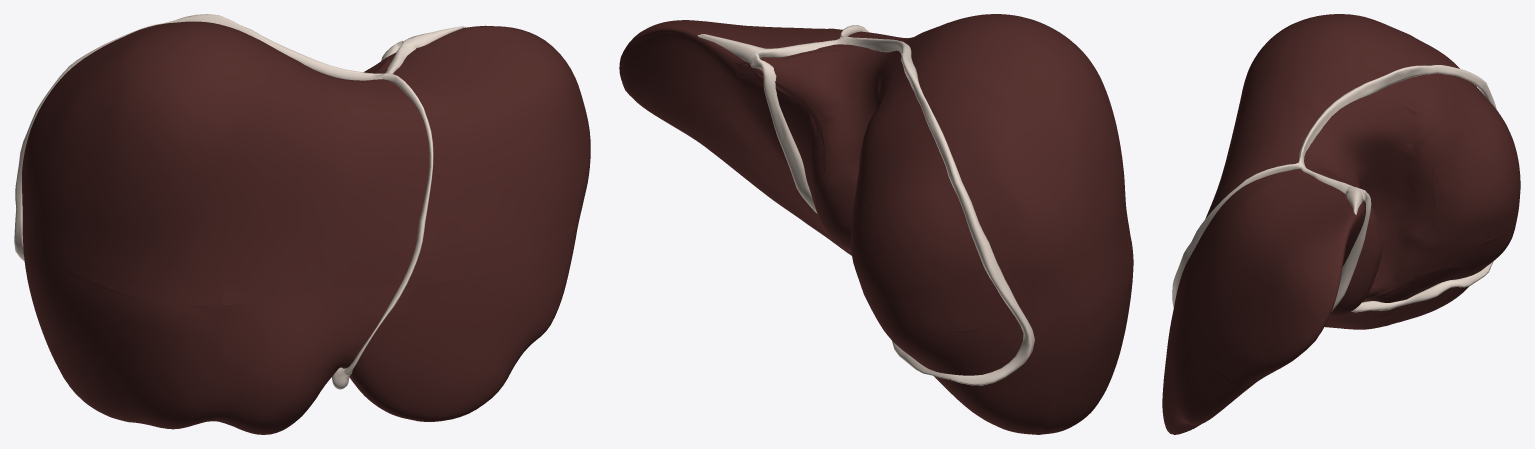
File: liver.glb
3 views of the same model, side by side, from view 1: azimuth 30°, elevation 25°; view 2: azimuth 150°, elevation 25°; view 3: azimuth 270°, elevation 25° (orthographic). The views are drawn at different scales.
Visible parts, largest first — view 1: VH_F_gastric_impression_of_liver, VH_F_coronary_ligament_of_liver; view 2: VH_F_gastric_impression_of_liver, VH_F_coronary_ligament_of_liver; view 3: VH_F_gastric_impression_of_liver, VH_F_coronary_ligament_of_liver.
Part boxes in pixels (bbox=[...]): VH_F_gastric_impression_of_liver: bbox=[22, 21, 590, 434]; VH_F_coronary_ligament_of_liver: bbox=[14, 14, 465, 389]; VH_F_gastric_impression_of_liver: bbox=[619, 14, 1133, 434]; VH_F_coronary_ligament_of_liver: bbox=[697, 25, 1034, 385]; VH_F_gastric_impression_of_liver: bbox=[1162, 14, 1520, 434]; VH_F_coronary_ligament_of_liver: bbox=[1172, 65, 1496, 312].
Bounding box in the file's own units: 0.2471 × 0.17 × 0.1663.
